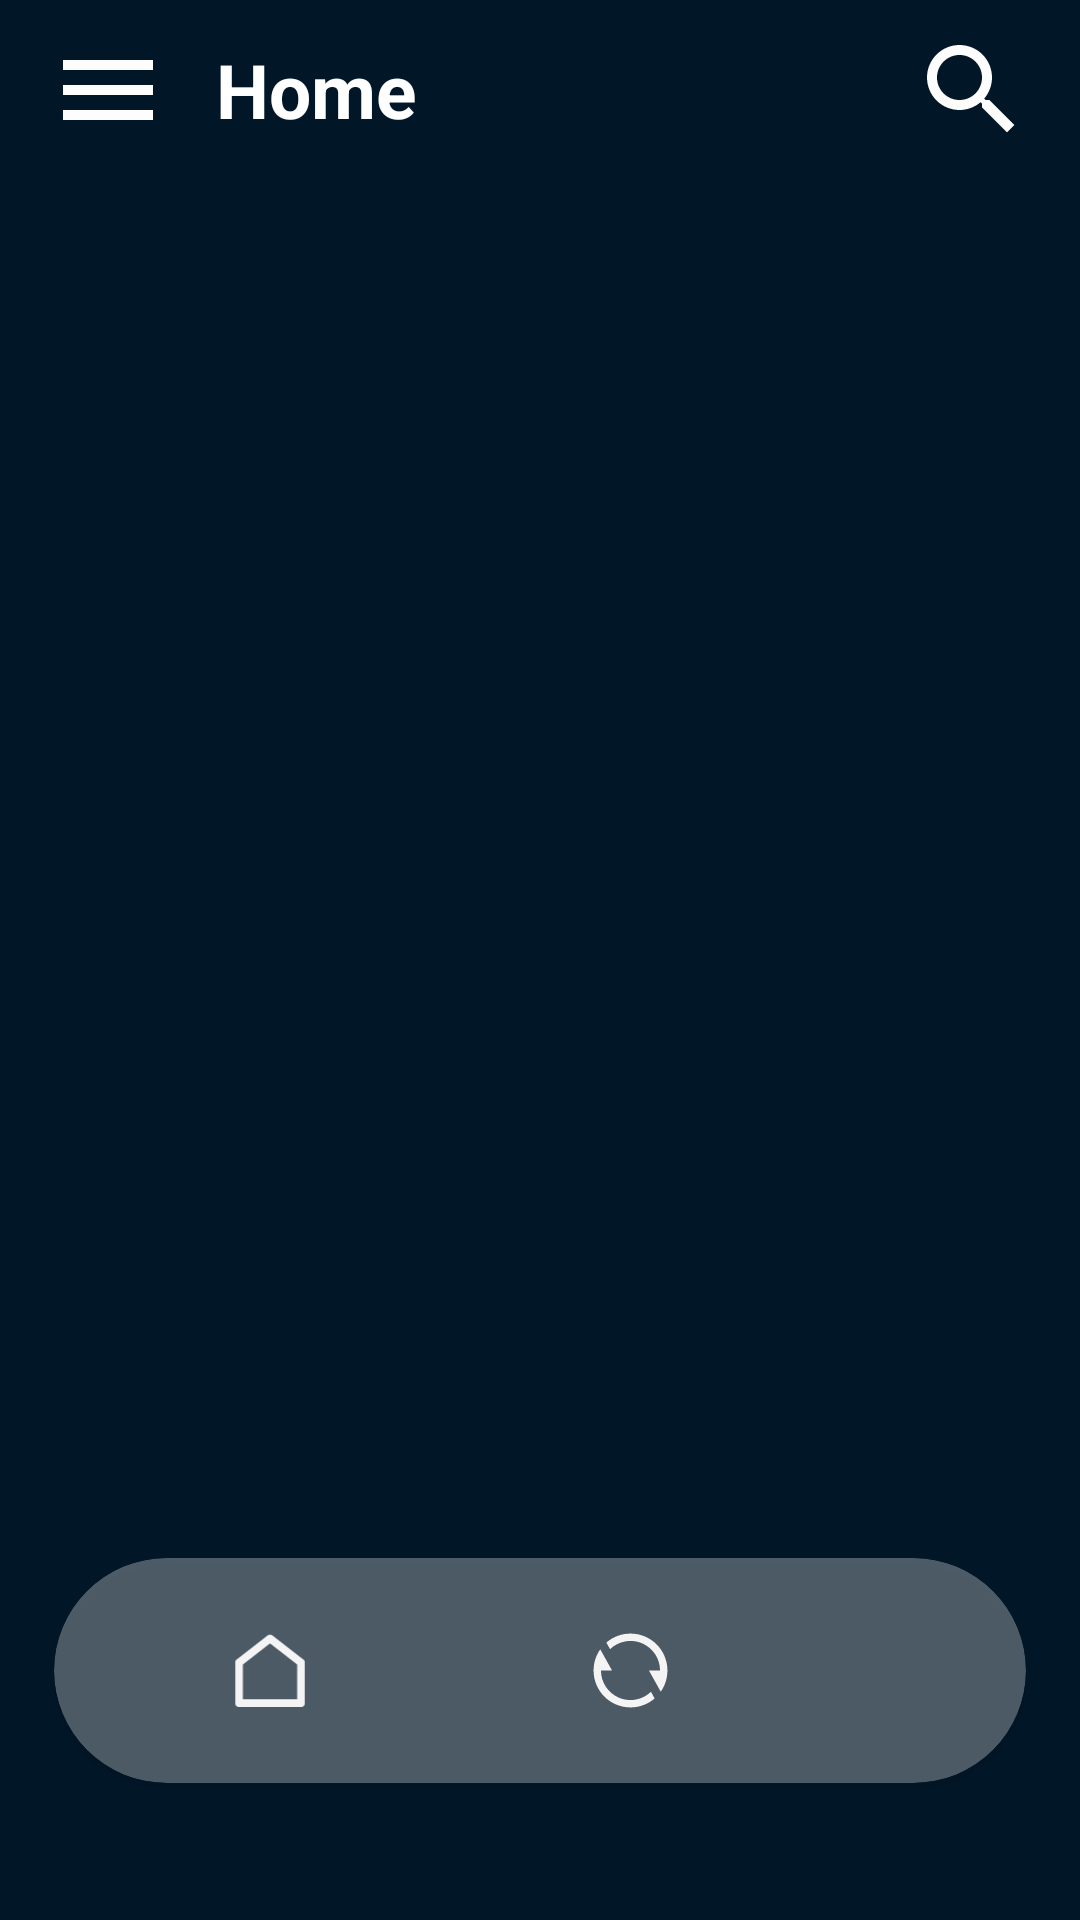

Icons on this 1080x1920 Android screen, each with its box as (x1, y1, x2, y2):
home: (235, 1634, 305, 1707)
menu: (63, 60, 153, 120)
refreshbutton: (593, 1633, 668, 1708)
search: (927, 45, 1014, 132)
